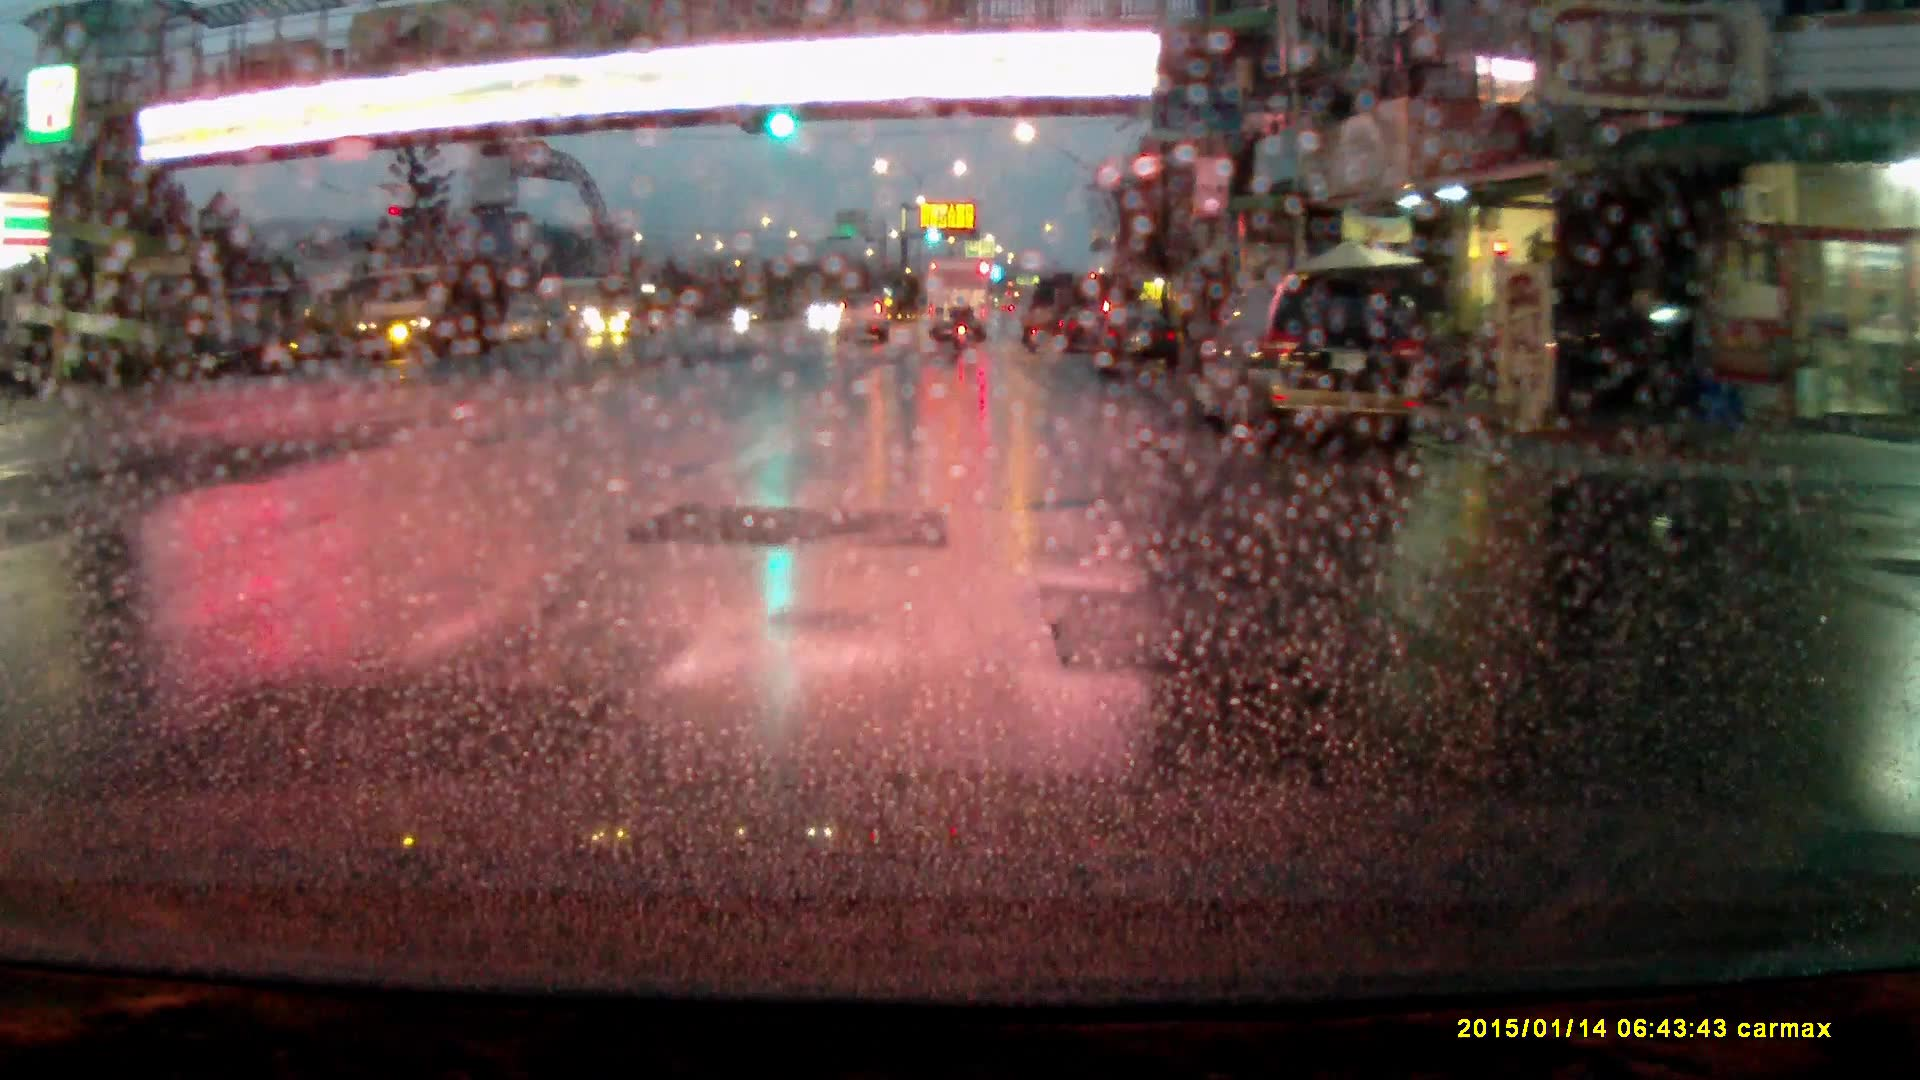rider: (949, 292, 975, 352)
vehicle: (1195, 274, 1426, 448), (1559, 293, 1694, 418), (348, 264, 498, 366), (1095, 308, 1183, 372), (924, 261, 993, 339), (587, 284, 670, 343), (836, 293, 895, 343), (1064, 306, 1113, 354)
